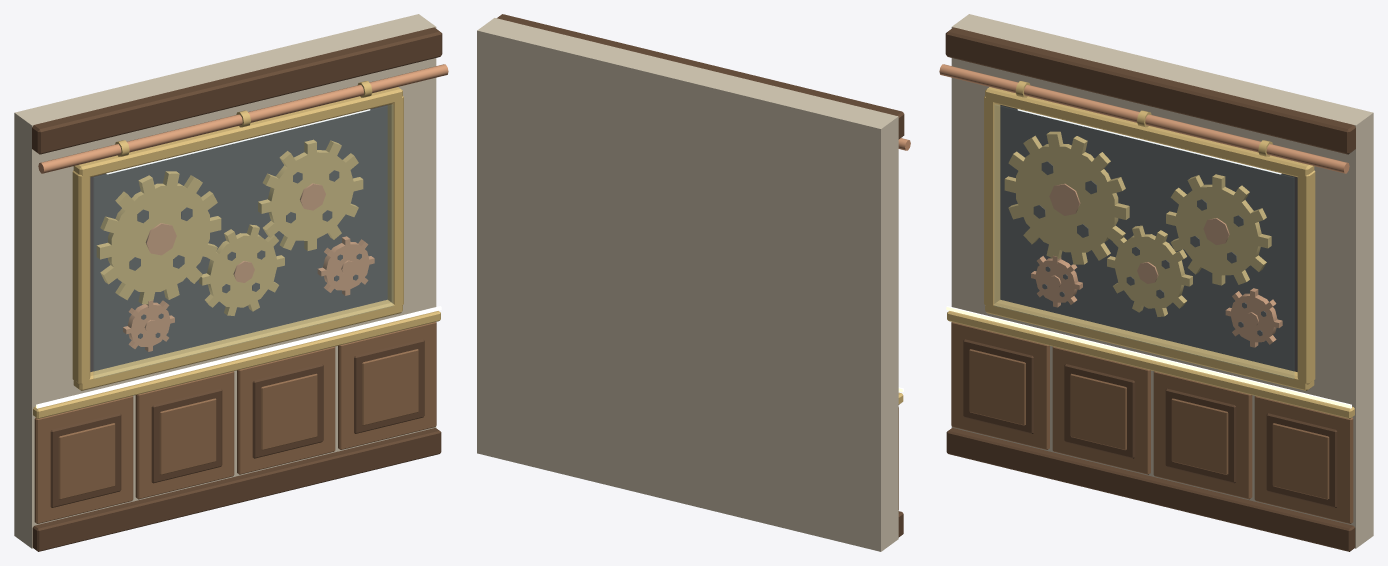
File: wall_hm_gears.glb
3 renders of one model, left to right at view 1: azimuth 30°, elevation 25°; view 2: azimuth 150°, elevation 25°; view 3: azimuth 330°, elevation 25°, orthographic.
Parts seen in each view (by area): view 1: wall_hm_gears; view 2: wall_hm_gears; view 3: wall_hm_gears.
Part boxes in pixels (x1,y1,x2,y2): wall_hm_gears: (14,14,448,551); wall_hm_gears: (477,14,910,551); wall_hm_gears: (939,14,1373,551).
Bounding box in the file's own units: 4 × 4 × 0.53.
